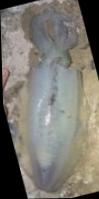Cephalopod: (18, 7, 85, 191)
